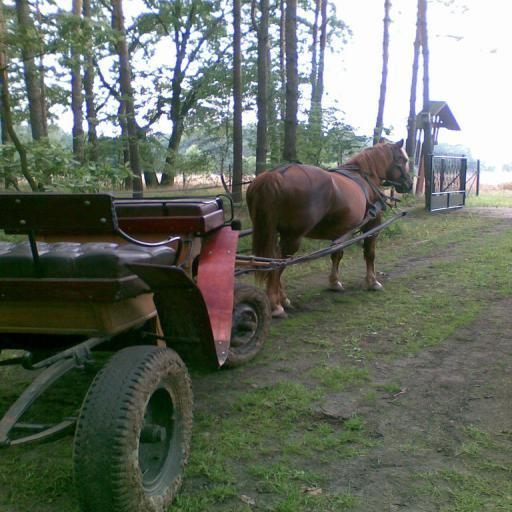horse: (246, 136, 418, 318)
